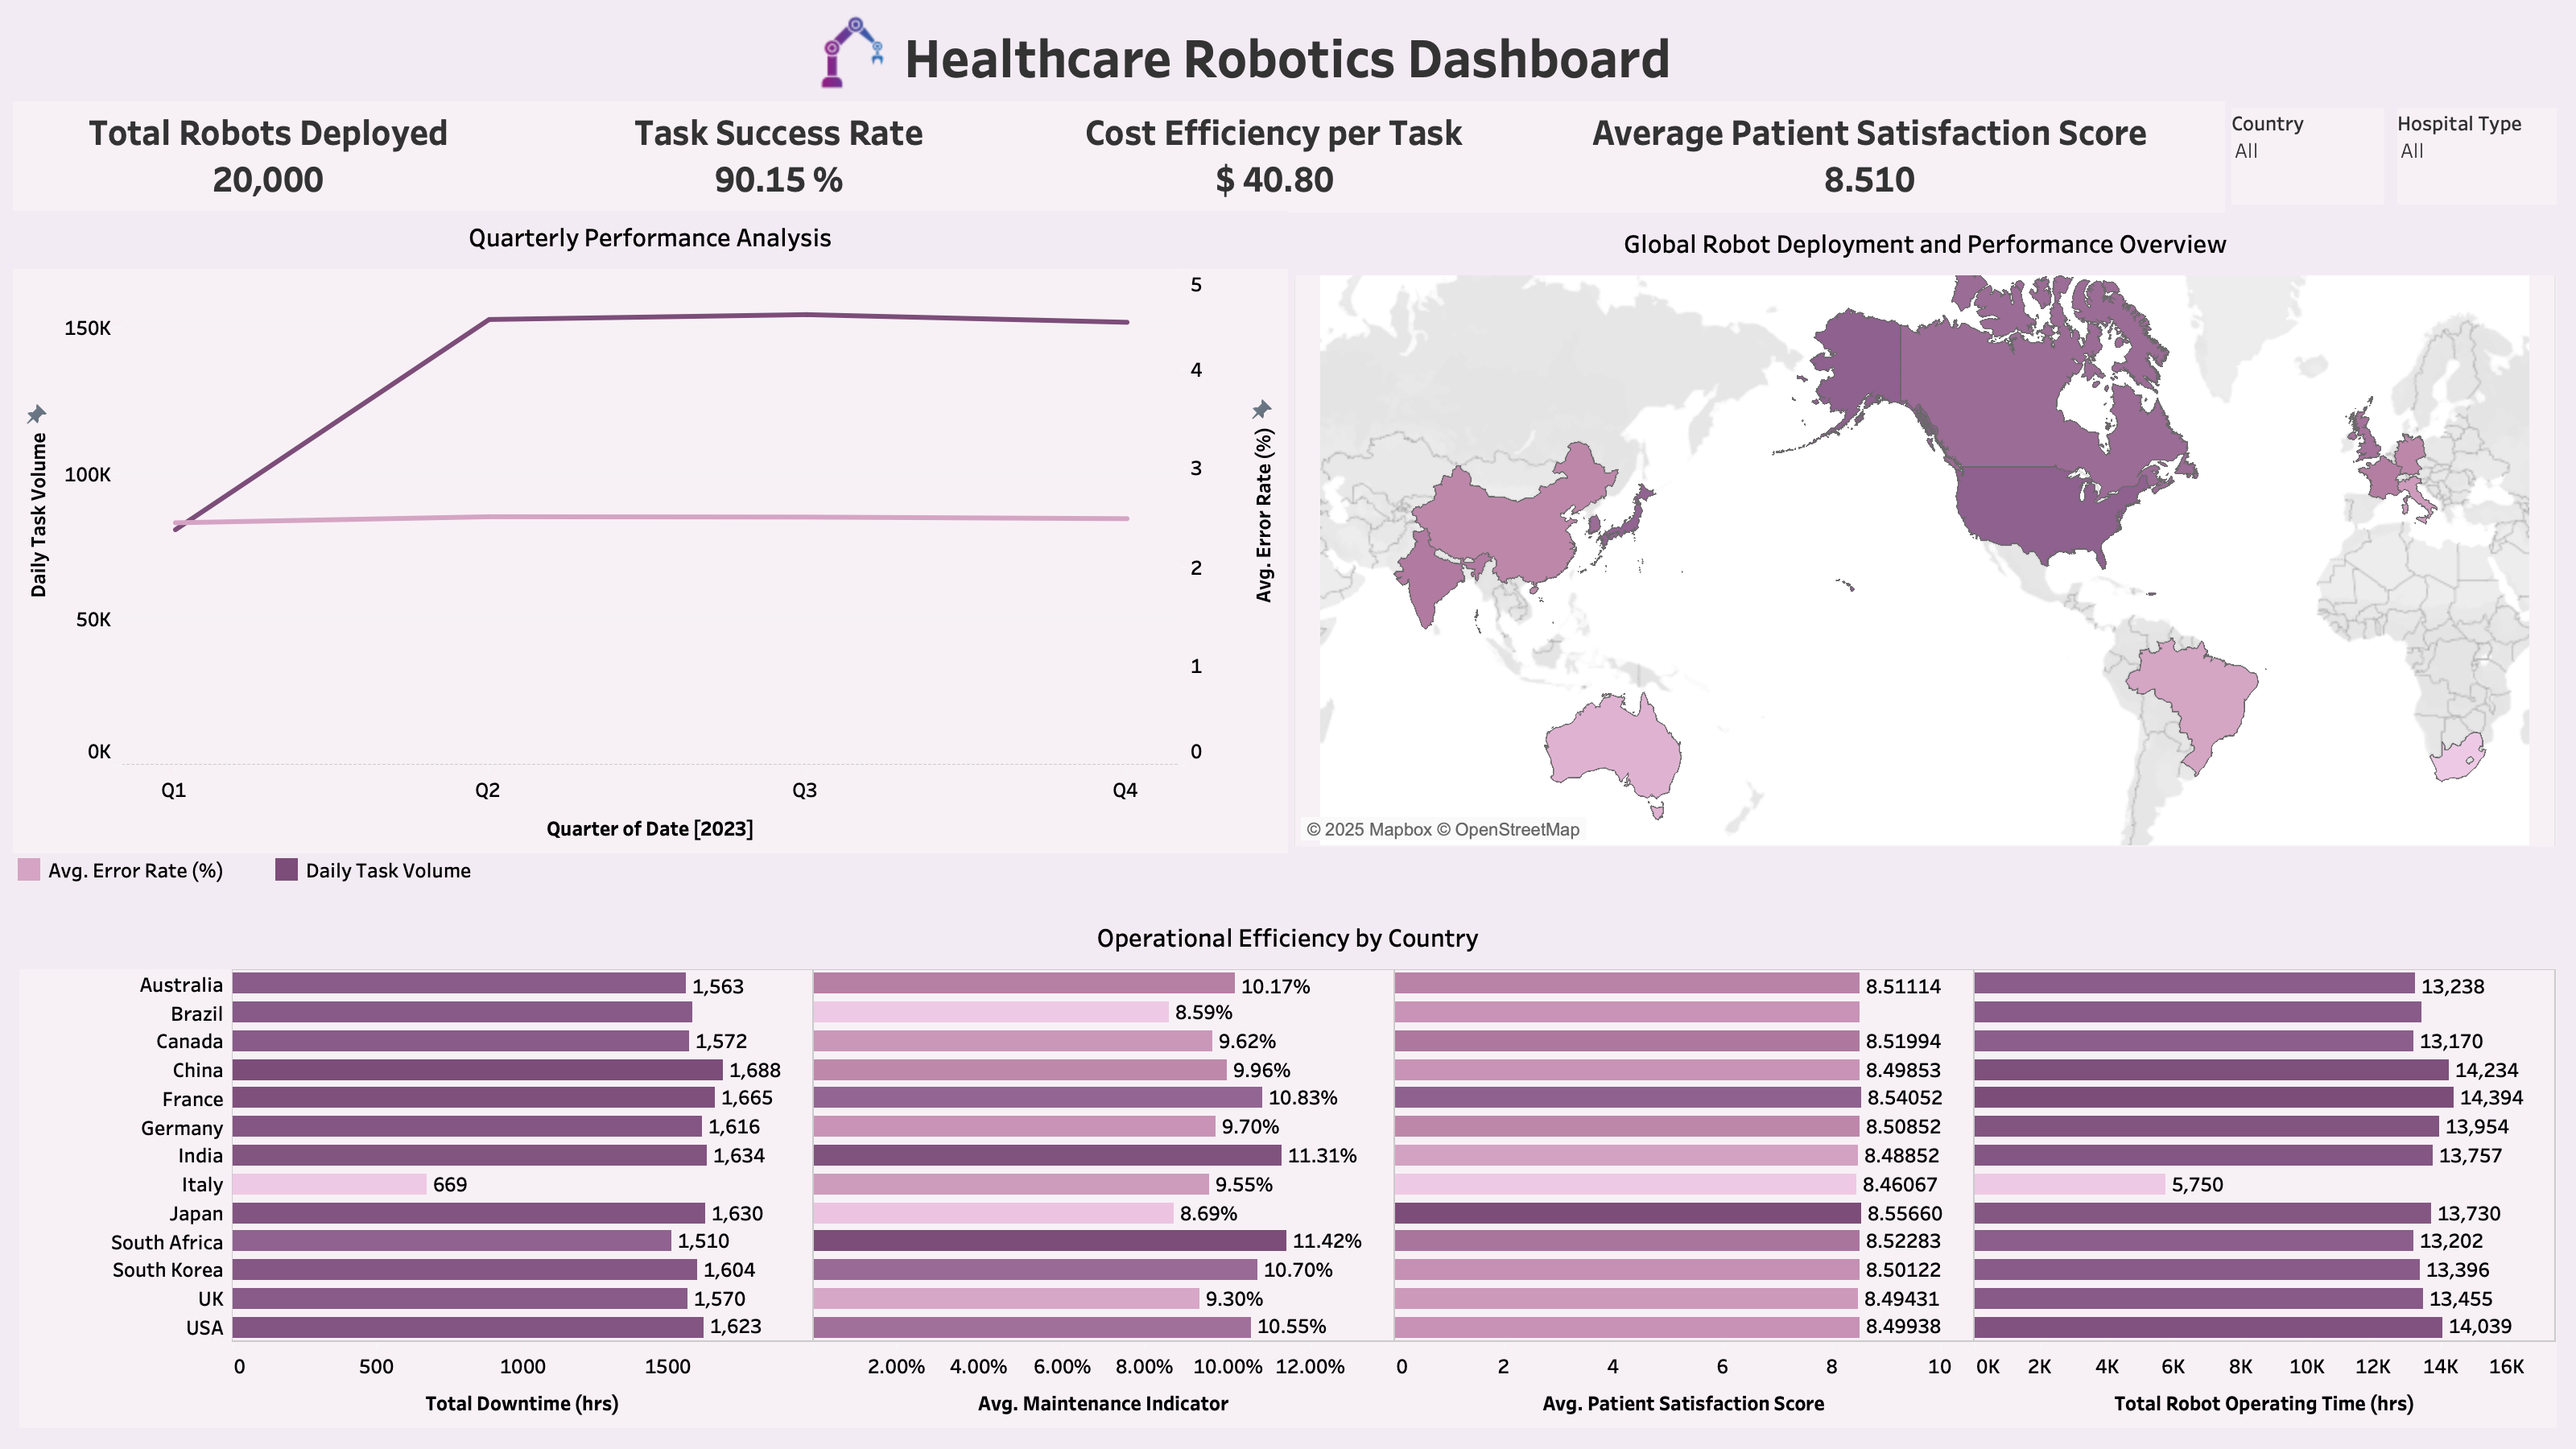

This screenshot's page, from the dashboard's own definition file:
{"tool":"tableau","page":{"name":"Dashboard","canvas":[1366,768],"ordinal":0},"visuals":[{"type":"image","param":"/Users/anjananittur/Documents/Anjana-Personal/New_Projects/Robotics Project/robo","box":[392,7,75,54]},{"type":"title","box":[8,8,1350,55]},{"type":"worksheet","title":"KPI 1","mark":"Text","box":[8,63,271.8,57.2]},{"type":"worksheet","title":"KPI 2","mark":"Automatic","box":[279.8,63,267.6,57.2]},{"type":"worksheet","title":"KPI 3","mark":"Automatic","box":[547.4,63,257.4,57.2]},{"type":"worksheet","title":"KPI 4","mark":"Automatic","box":[804.8,63,374.2,57.2]},{"type":"filter","title":"Business 1","param":"[federated.1fcjob31klldqc1c5qbke0ka0wfj].[none:Country:nk]","box":[1179,63,87.8,57.2]},{"type":"filter","title":"Business 1","param":"[federated.1fcjob31klldqc1c5qbke0ka0wfj].[none:Hospital Type:nk]","box":[1266.8,63,91.2,57.2]},{"type":"worksheet","title":"Business 2","mark":"Automatic","rows":["Daily Task Volume","Error Rate (%)"],"cols":["Date"],"box":[8,120.2,675,335.5]},{"type":"worksheet","title":"Business 1","mark":"Multipolygon","box":[683,120.2,675,335.5]},{"type":"legend","title":"Business 2","param":"[federated.1fcjob31klldqc1c5qbke0ka0wfj].[:Measure Names]","box":[8,455.7,1350,26.8]},{"type":"worksheet","title":"Business 3","mark":"Automatic","rows":["Country"],"cols":["Downtime (hrs)","Calculation_191684498537844736","Patient Satisfaction Score","Robot Operating Time (hrs)"],"box":[8,482.5,1350,277.5]}]}

Visuals, with their boxes in screenshot pixels (x1, y1, x2, y2), scaled from the page's 1366x768 canvas onto the 2576x1449 screenshot:
image: 739 13 881 115
title: 15 15 2561 119
"KPI 1" worksheet (Text marks): 15 119 527 227
"KPI 2" worksheet: 527 119 1032 227
"KPI 3" worksheet: 1032 119 1517 227
"KPI 4" worksheet: 1517 119 2223 227
"Business 1" filter: 2223 119 2389 227
"Business 1" filter: 2389 119 2561 227
"Business 2" worksheet: 15 227 1288 860
"Business 1" worksheet (Multipolygon marks): 1288 227 2561 860
"Business 2" legend: 15 860 2561 910
"Business 3" worksheet: 15 910 2561 1434
